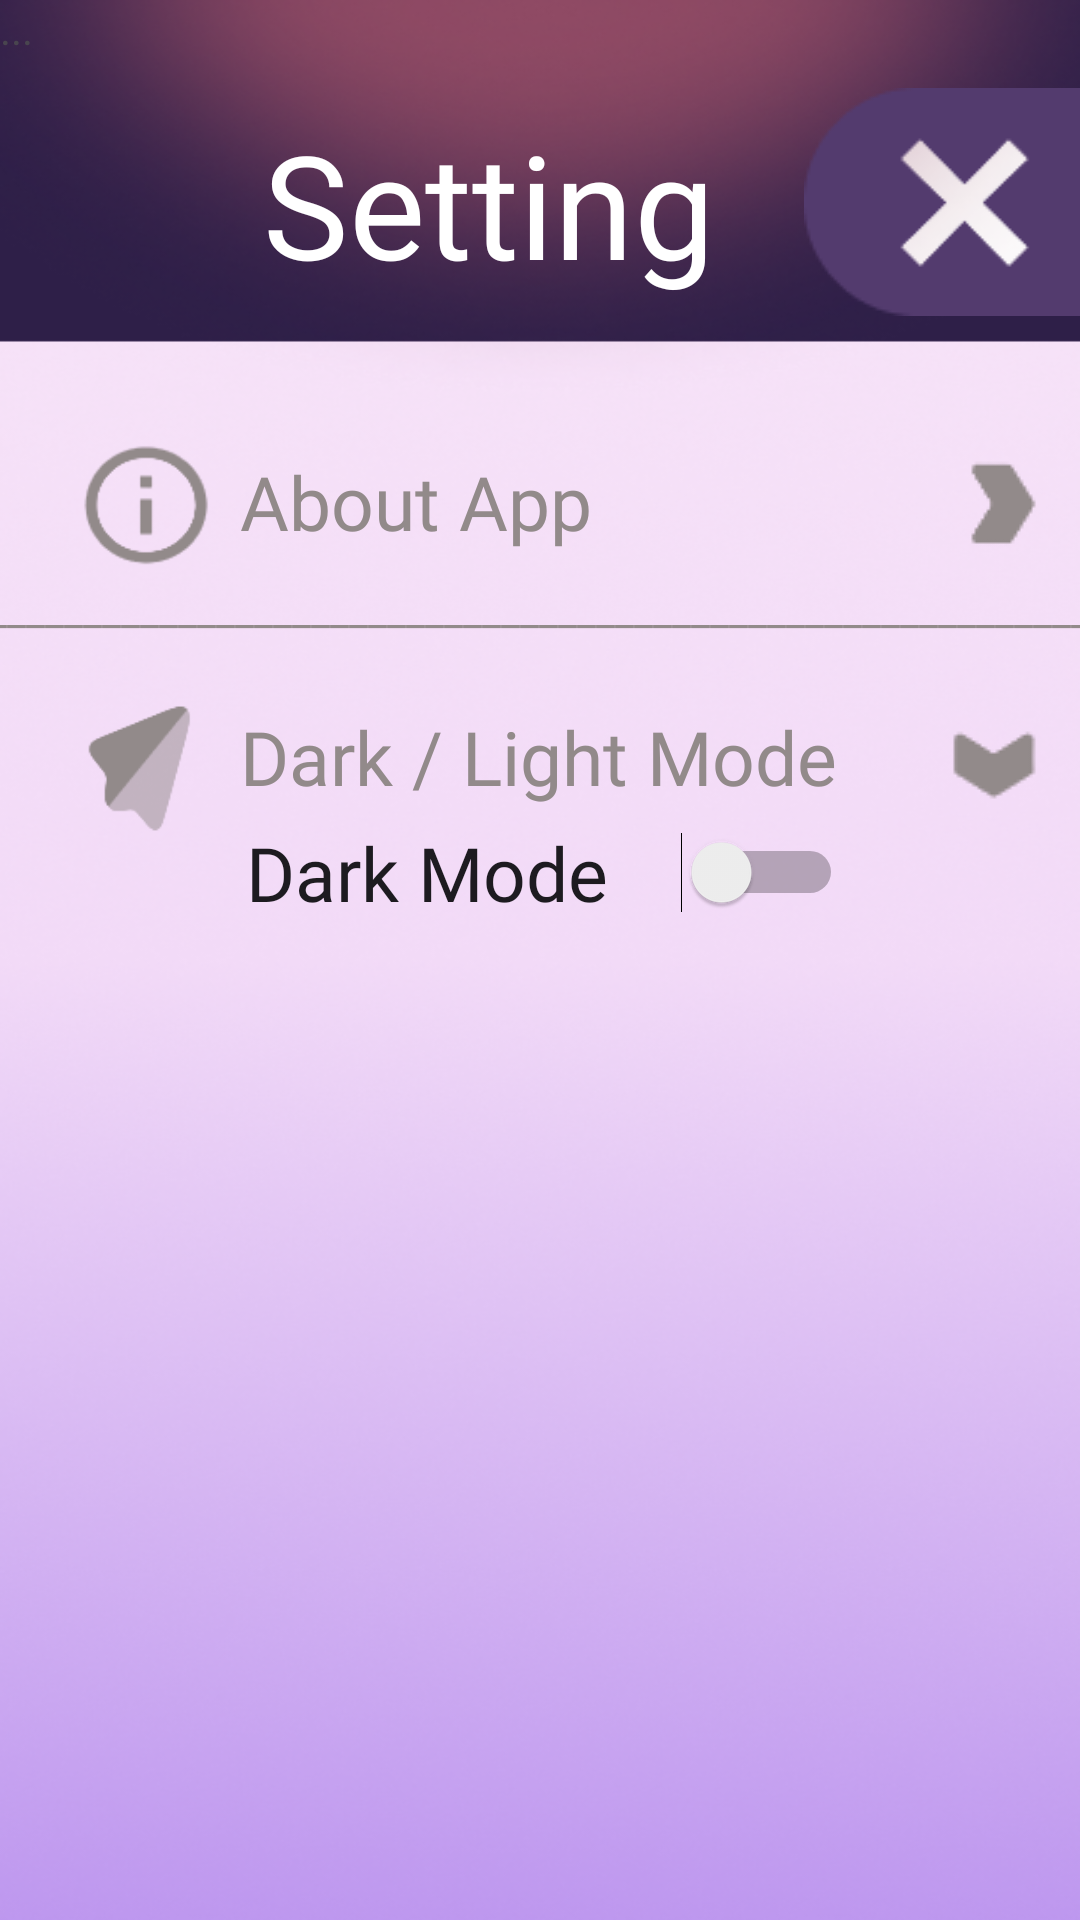

Locate icon controls on the screen. Image size 1080x1920, boxes as bbox(x1, y1, x2, y2).
arrow: bbox(971, 464, 1035, 544)
arrow down: bbox(953, 733, 1035, 798)
info: bbox(85, 446, 208, 564)
